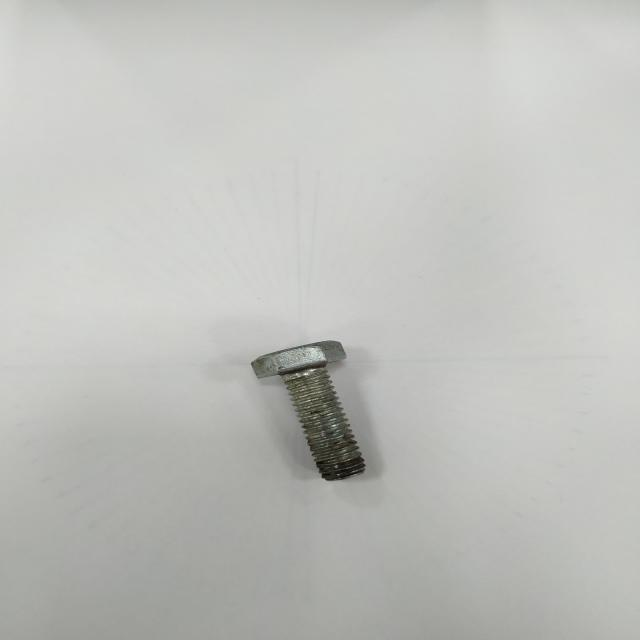Bolt: (252, 341, 365, 480)
